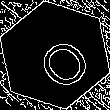O_NW: (21, 22, 89, 88)
